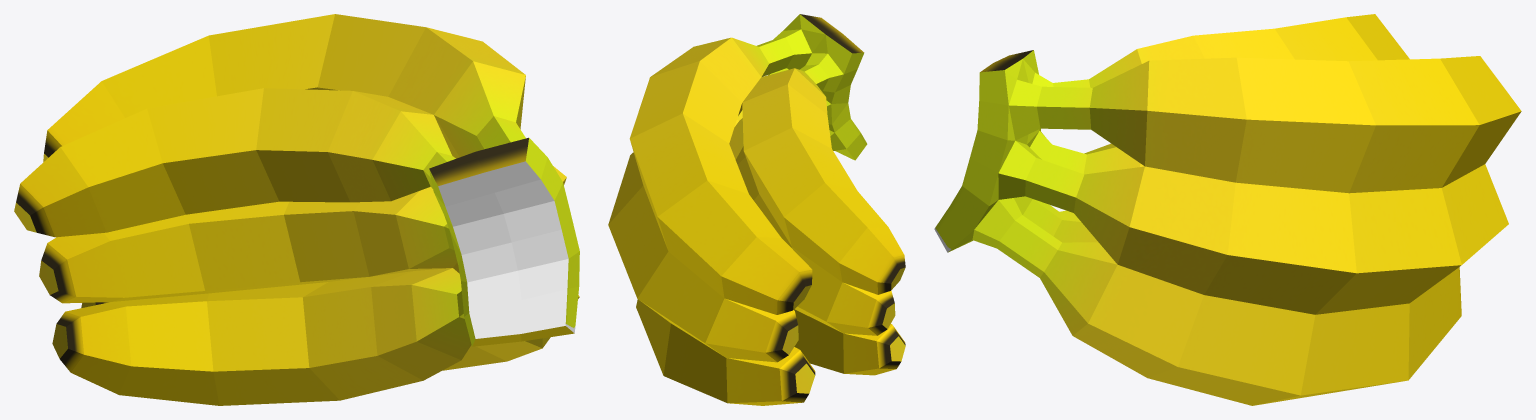
File: banana-3.fbx
The picture shows the model from 3 angles, left to right: view 1: azimuth 30°, elevation 25°; view 2: azimuth 150°, elevation 25°; view 3: azimuth 270°, elevation 25°; orthographic projection. The views are drawn at different scales.
Parts seen in each view (by area): view 1: partA; view 2: partA; view 3: partA.
Boxes of the visible parts, box(x1,y1,x2,y2) form: partA: box(14, 14, 579, 405); partA: box(608, 14, 905, 405); partA: box(934, 14, 1521, 405).
Size of the model in its own units: 9.02 by 7.39 by 10.7.
